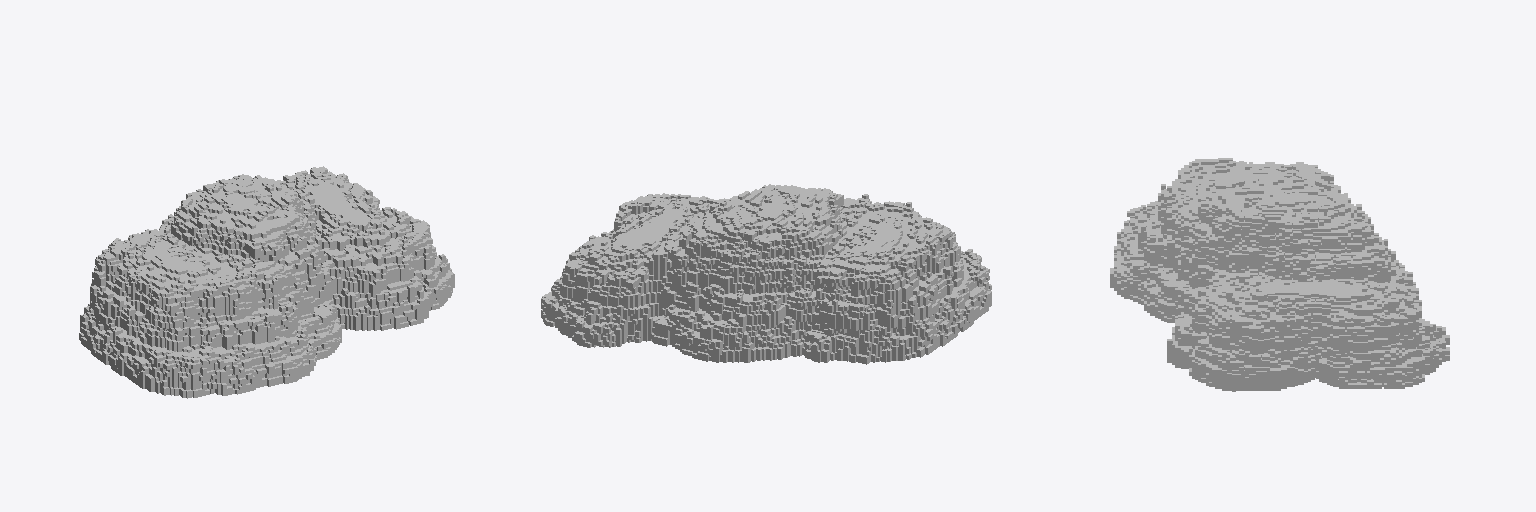
Rendered from sandDune.obj.
3 renders of one model, left to right at view 1: azimuth 30°, elevation 25°; view 2: azimuth 150°, elevation 25°; view 3: azimuth 270°, elevation 25°, orthographic.
Parts seen in each view (by area): view 1: dune-0-sand dunes; view 2: dune-0-sand dunes; view 3: dune-0-sand dunes.
Boxes of the visible parts, <box> form: dune-0-sand dunes: <box>79,166,454,398</box>; dune-0-sand dunes: <box>541,184,991,364</box>; dune-0-sand dunes: <box>1110,158,1449,391</box>.
Bounding box in the file's own units: 25.6 × 7.6 × 22.1.